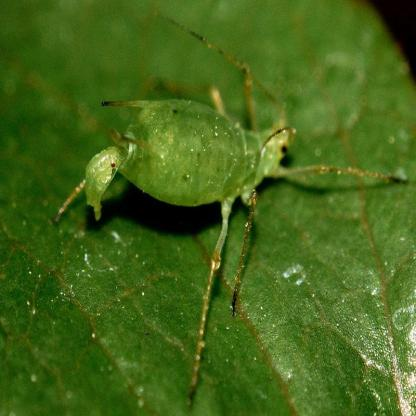aphid: (61, 30, 387, 324)
